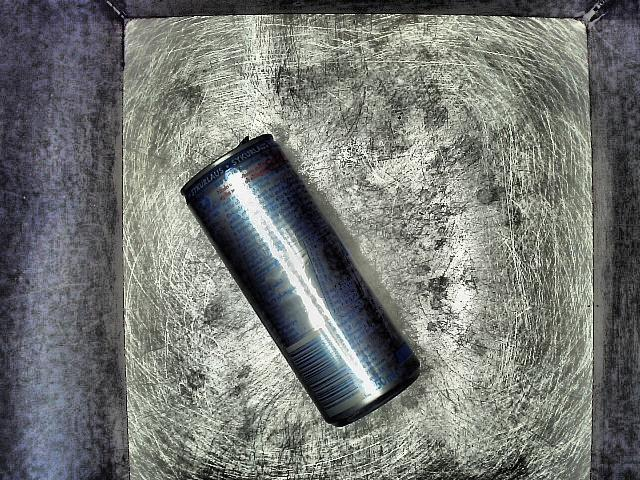Bottles: (166, 131, 448, 433)
